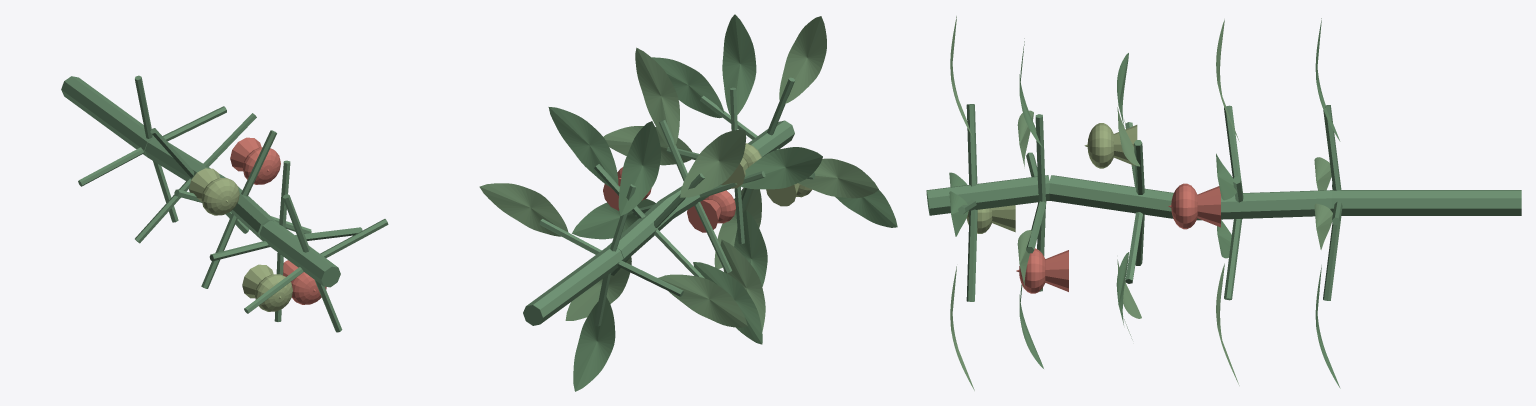
The model's file is pepper_b.glb.
The picture shows the model from 3 angles, left to right: view 1: azimuth 30°, elevation 25°; view 2: azimuth 150°, elevation 25°; view 3: azimuth 270°, elevation 25°; orthographic projection. The views are drawn at different scales.
Visible parts, largest first — view 1: Stem, FruitGreen, FruitRed; view 2: Leaves, Stem, FruitRed, FruitGreen; view 3: Stem, Leaves, FruitRed, FruitGreen.
Part boxes in pixels (<box>): Stem: <box>61,75,388,332</box>; FruitGreen: <box>189,168,292,311</box>; FruitRed: <box>230,137,326,304</box>; Leaves: <box>479,14,897,391</box>; Stem: <box>523,77,814,326</box>; FruitRed: <box>603,167,735,232</box>; FruitGreen: <box>721,143,812,206</box>; Stem: <box>926,104,1521,301</box>; Leaves: <box>949,16,1340,390</box>; FruitRed: <box>1016,183,1220,293</box>; FruitGreen: <box>966,123,1137,233</box>.
Bounding box in the file's own units: 0.4991 × 0.4972 × 0.7824.
